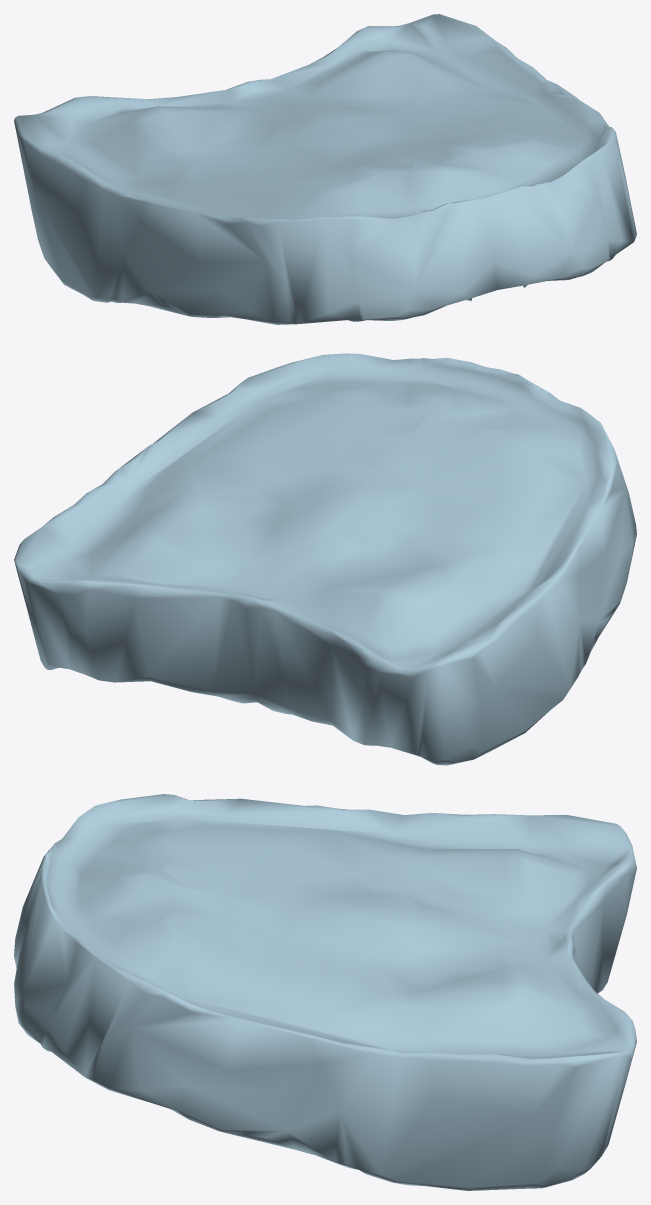
The model's file is articulacoes-intervertebral-disc-t7-t8.glb.
3 renders of one model, top to bottom at view 1: azimuth 30°, elevation 25°; view 2: azimuth 150°, elevation 25°; view 3: azimuth 270°, elevation 25°, orthographic. The views are drawn at different scales.
Visible parts, largest first — view 1: Intervertebral disc T7-T8; view 2: Intervertebral disc T7-T8; view 3: Intervertebral disc T7-T8.
Part boxes in pixels (bbox=[...]): Intervertebral disc T7-T8: bbox=[14, 14, 636, 324]; Intervertebral disc T7-T8: bbox=[14, 353, 636, 765]; Intervertebral disc T7-T8: bbox=[14, 794, 636, 1190].
Size of the model in its own units: 0.0358 by 0.013 by 0.0367.
